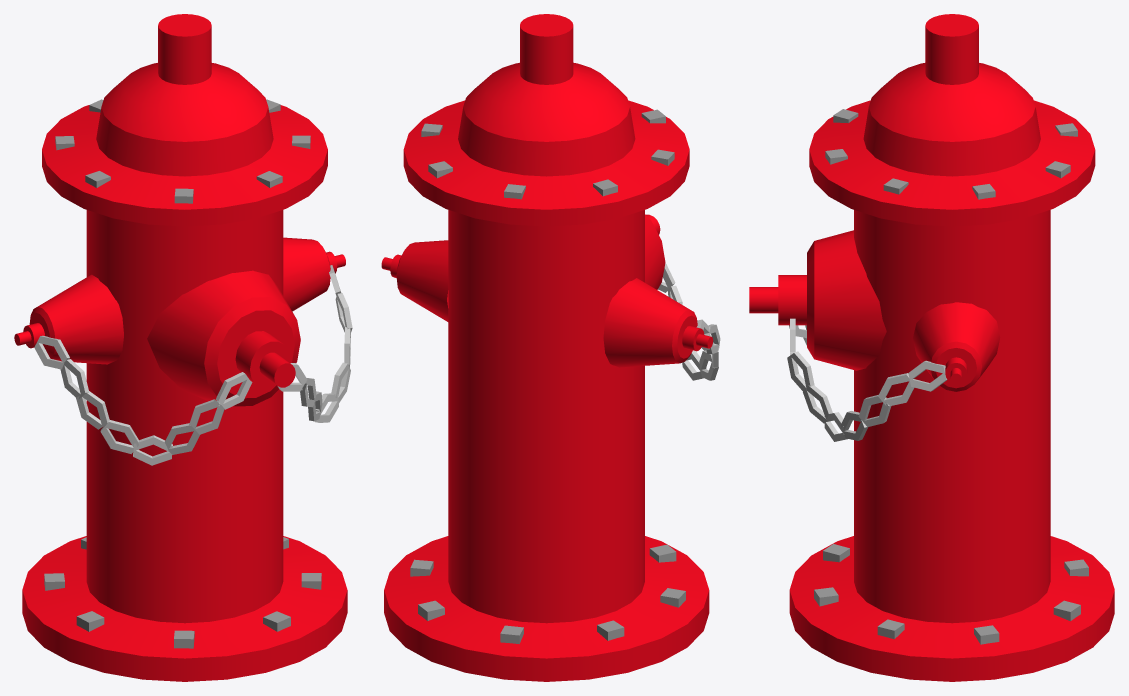
The model's file is HidranteLOD0.fbx.
3 views of the same model, side by side, from view 1: azimuth 30°, elevation 25°; view 2: azimuth 150°, elevation 25°; view 3: azimuth 270°, elevation 25° (orthographic).
Parts seen in each view (by area): view 1: HidranteLOD0; view 2: HidranteLOD0; view 3: HidranteLOD0.
Boxes of the visible parts, x1,y1,x2,y2 form: HidranteLOD0: [14, 14, 352, 681]; HidranteLOD0: [381, 14, 720, 681]; HidranteLOD0: [749, 14, 1114, 681].
Size of the model in its own units: 34.19 by 58.93 by 33.22.
